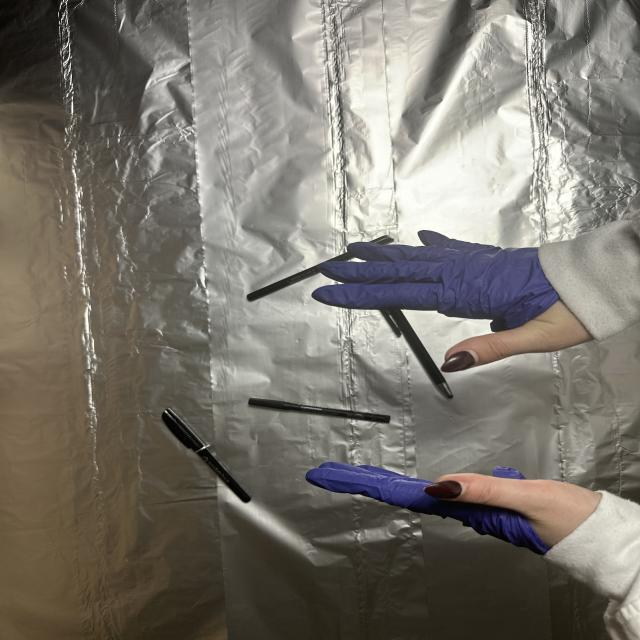glove_partial: (312, 228, 602, 370), (307, 455, 604, 562)
